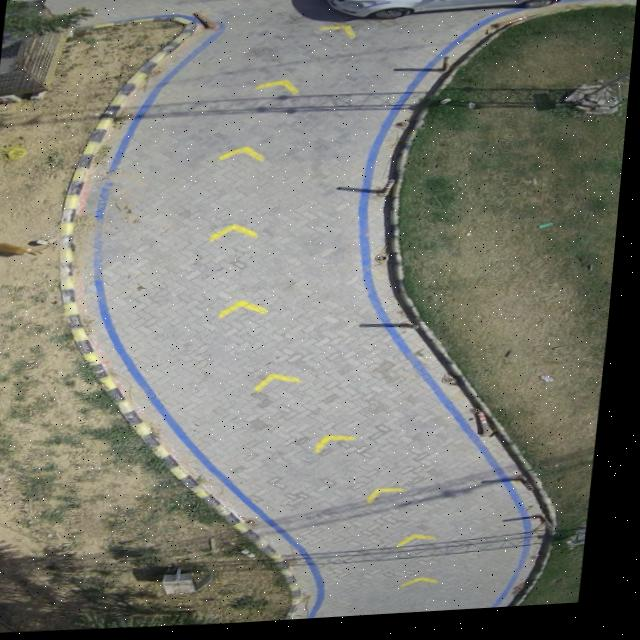car: (320, 0, 570, 25)
